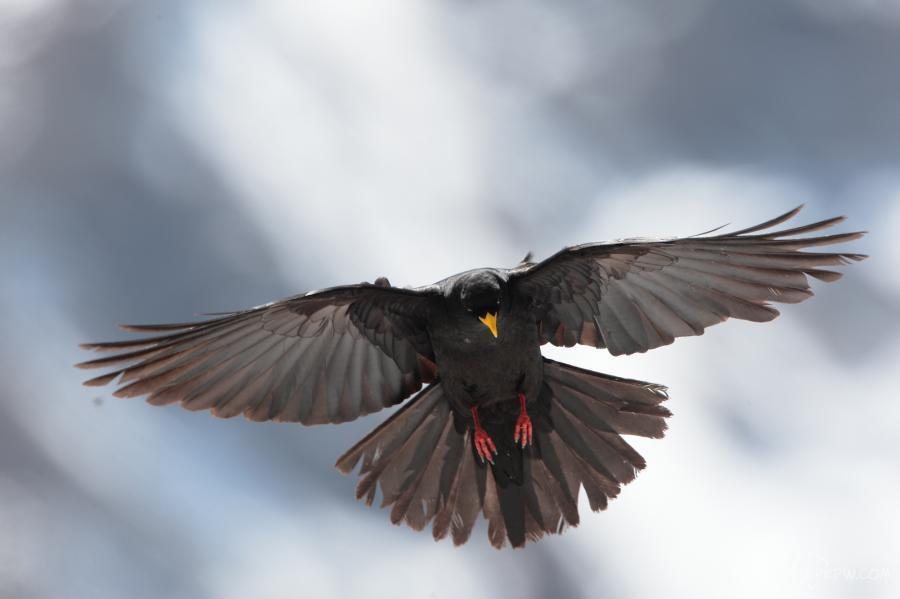bird: (71, 202, 874, 553)
